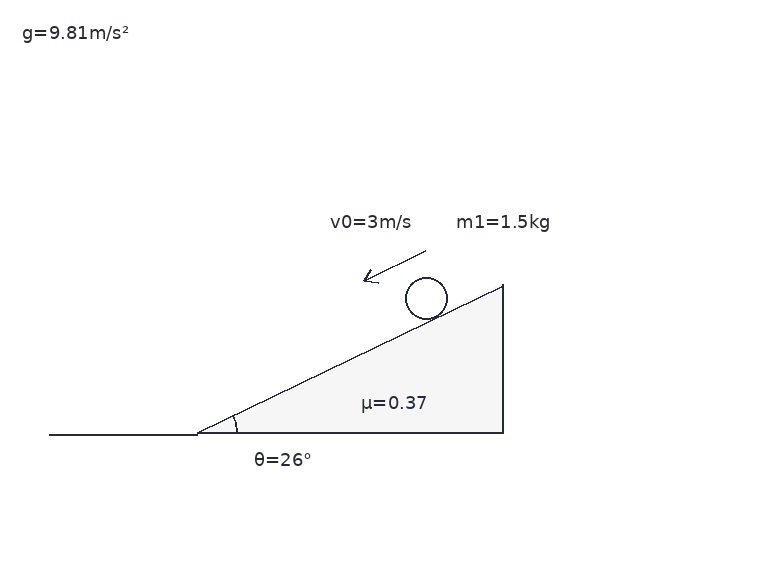ball: (403, 275, 449, 321)
ramp: (195, 282, 505, 435)
